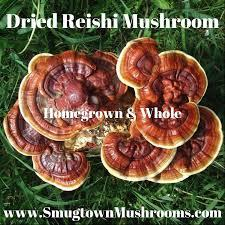Ganoderma - Fruit Body: (8, 34, 222, 191)
